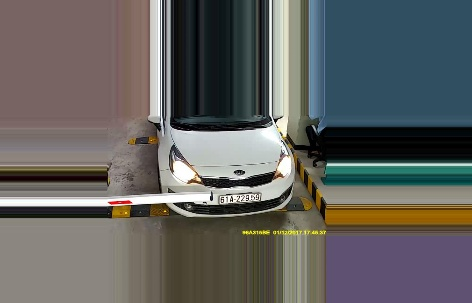plate: (218, 192, 262, 206)
